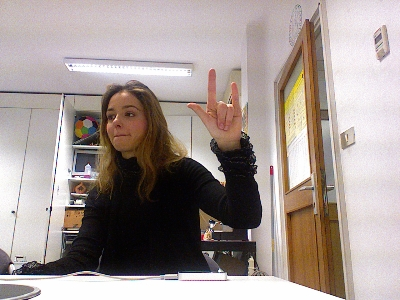我爱你: (185, 66, 243, 143)
